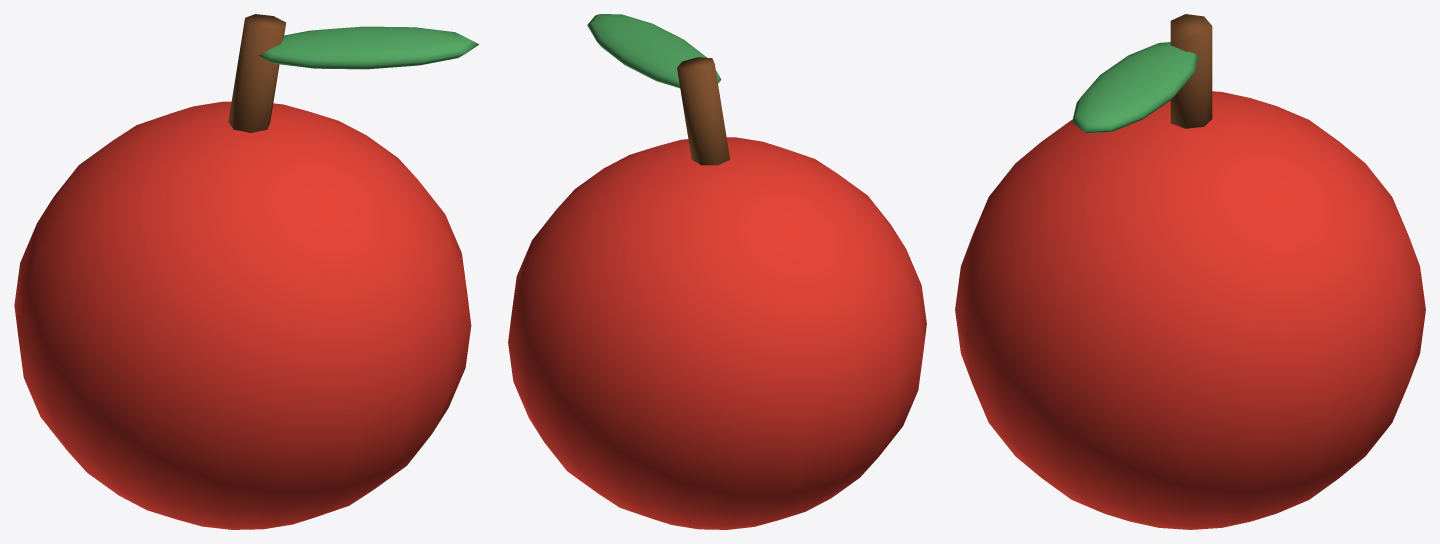
File: apple.glb
3 renders of one model, left to right at view 1: azimuth 30°, elevation 25°; view 2: azimuth 150°, elevation 25°; view 3: azimuth 270°, elevation 25°, orthographic. The views are drawn at different scales.
Visible parts, largest first — view 1: Apple; view 2: Apple; view 3: Apple.
Part boxes in pixels (<box>): Apple: <box>14,14,478,529</box>; Apple: <box>508,14,926,529</box>; Apple: <box>955,14,1425,529</box>.
Bounding box in the file's own units: 0.6 × 0.6957 × 0.6.
